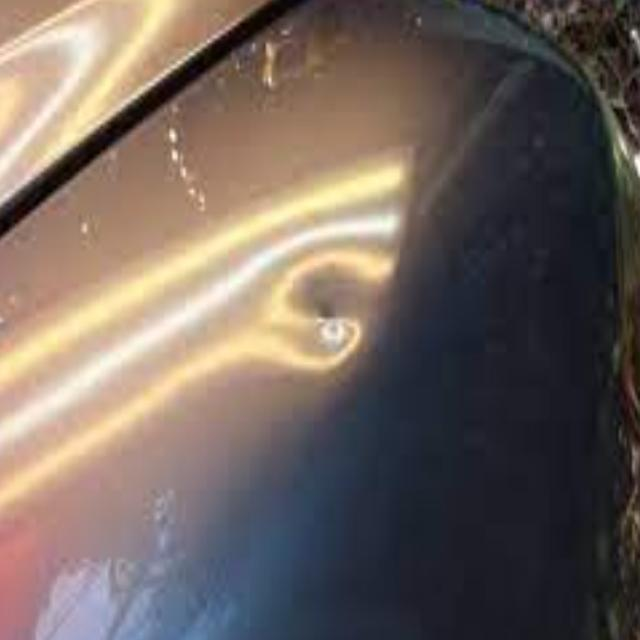dents: (267, 243, 371, 357)
